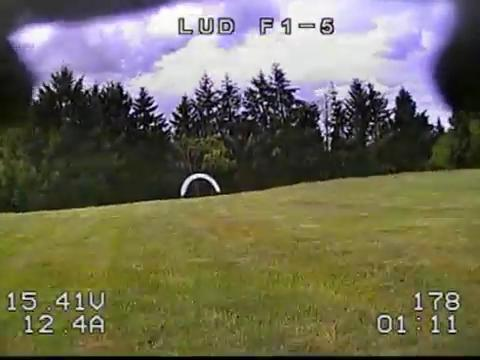gate: (179, 172, 220, 195)
